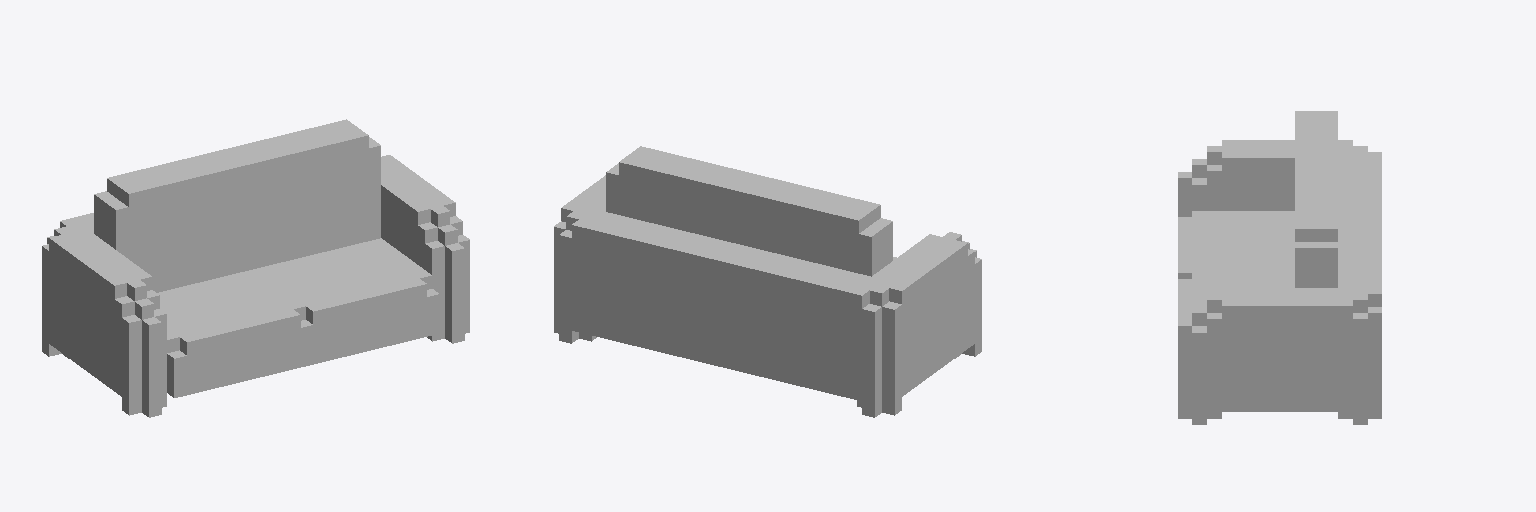
File: 3D Voxel Office Pack-45.obj
3 views of the same model, side by side, from view 1: azimuth 30°, elevation 25°; view 2: azimuth 150°, elevation 25°; view 3: azimuth 270°, elevation 25° (orthographic).
Parts seen in each view (by area): view 1: object 1; view 2: object 1; view 3: object 1.
Part boxes in pixels (bbox=[...]): object 1: bbox=[42, 119, 469, 417]; object 1: bbox=[554, 146, 981, 417]; object 1: bbox=[1178, 111, 1381, 424].
Size of the model in its own units: 2.7 by 1.3 by 1.4.